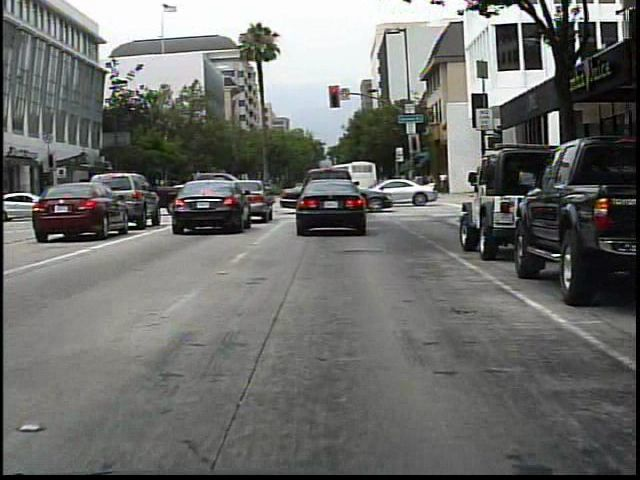person: (438, 168, 451, 195)
